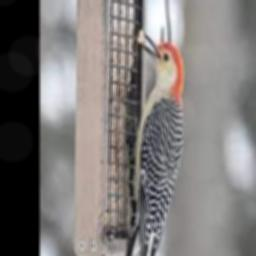Woodpecker: (114, 31, 183, 256)
